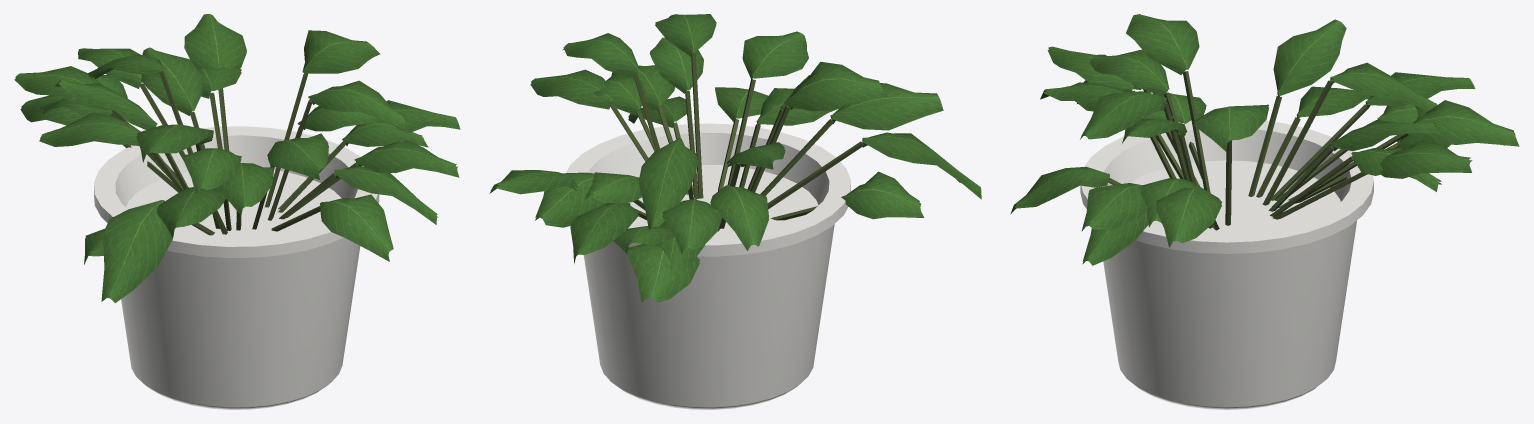
The model's file is ap_plant_small.fbx.
3 renders of one model, left to right at view 1: azimuth 30°, elevation 25°; view 2: azimuth 150°, elevation 25°; view 3: azimuth 270°, elevation 25°, orthographic. The views are drawn at different scales.
Visible parts, largest first — view 1: ap_plant_small; view 2: ap_plant_small; view 3: ap_plant_small.
Part boxes in pixels (x1,y1,x2,y2): ap_plant_small: [14, 14, 460, 409]; ap_plant_small: [489, 14, 981, 409]; ap_plant_small: [1010, 14, 1519, 409].
Size of the model in its own units: 0.3007 by 0.2152 by 0.3223.
4 materials, 1 textured.
